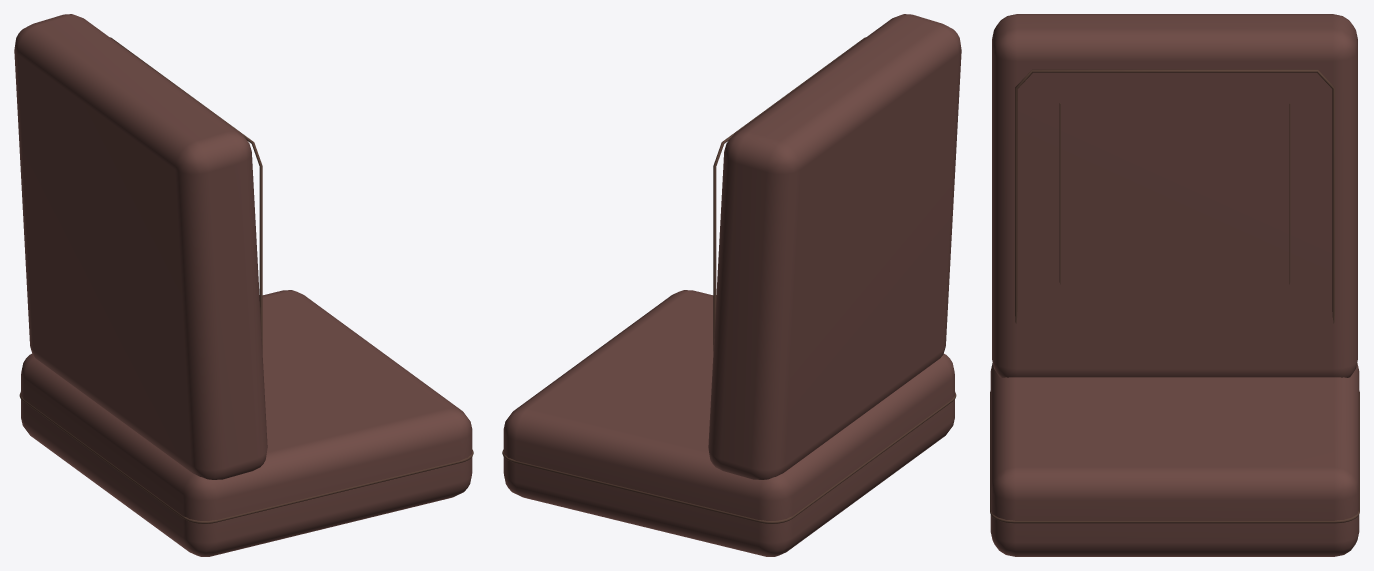
The model's file is banquette-cushion.glb.
3 views of the same model, side by side, from view 1: azimuth 30°, elevation 25°; view 2: azimuth 150°, elevation 25°; view 3: azimuth 270°, elevation 25° (orthographic).
Parts seen in each view (by area): view 1: Upholstery | oxblood hide, Upholstery | waxed piping; view 2: Upholstery | oxblood hide, Upholstery | waxed piping; view 3: Upholstery | oxblood hide, Upholstery | waxed piping.
Part boxes in pixels (left/top/right/bottom): Upholstery | oxblood hide: left=14, top=14, right=472, bottom=556; Upholstery | waxed piping: left=19, top=37, right=473, bottom=523; Upholstery | oxblood hide: left=503, top=14, right=961, bottom=556; Upholstery | waxed piping: left=502, top=37, right=956, bottom=523; Upholstery | oxblood hide: left=990, top=14, right=1359, bottom=556; Upholstery | waxed piping: left=990, top=69, right=1359, bottom=523.
Size of the model in its own units: 0.5034 by 0.683 by 0.548.
